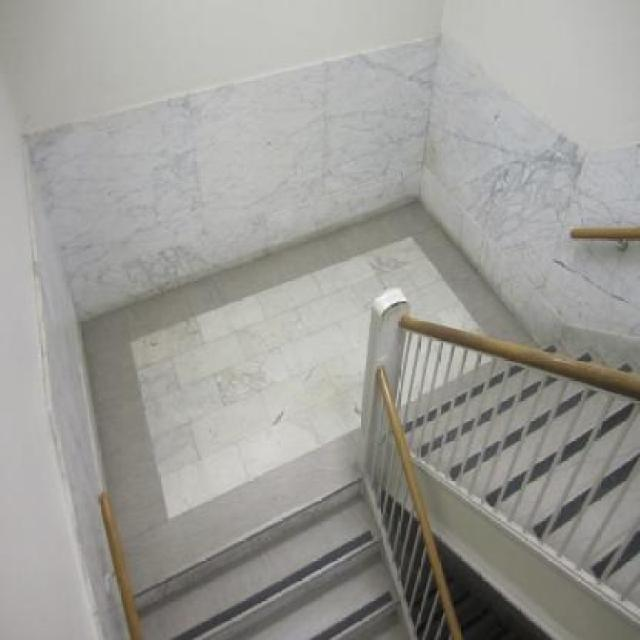stair: (404, 296, 640, 572), (116, 443, 430, 640)
